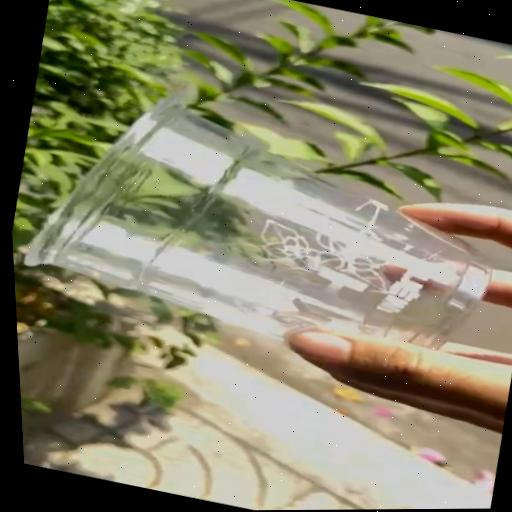ly_giay: (25, 89, 491, 348)
